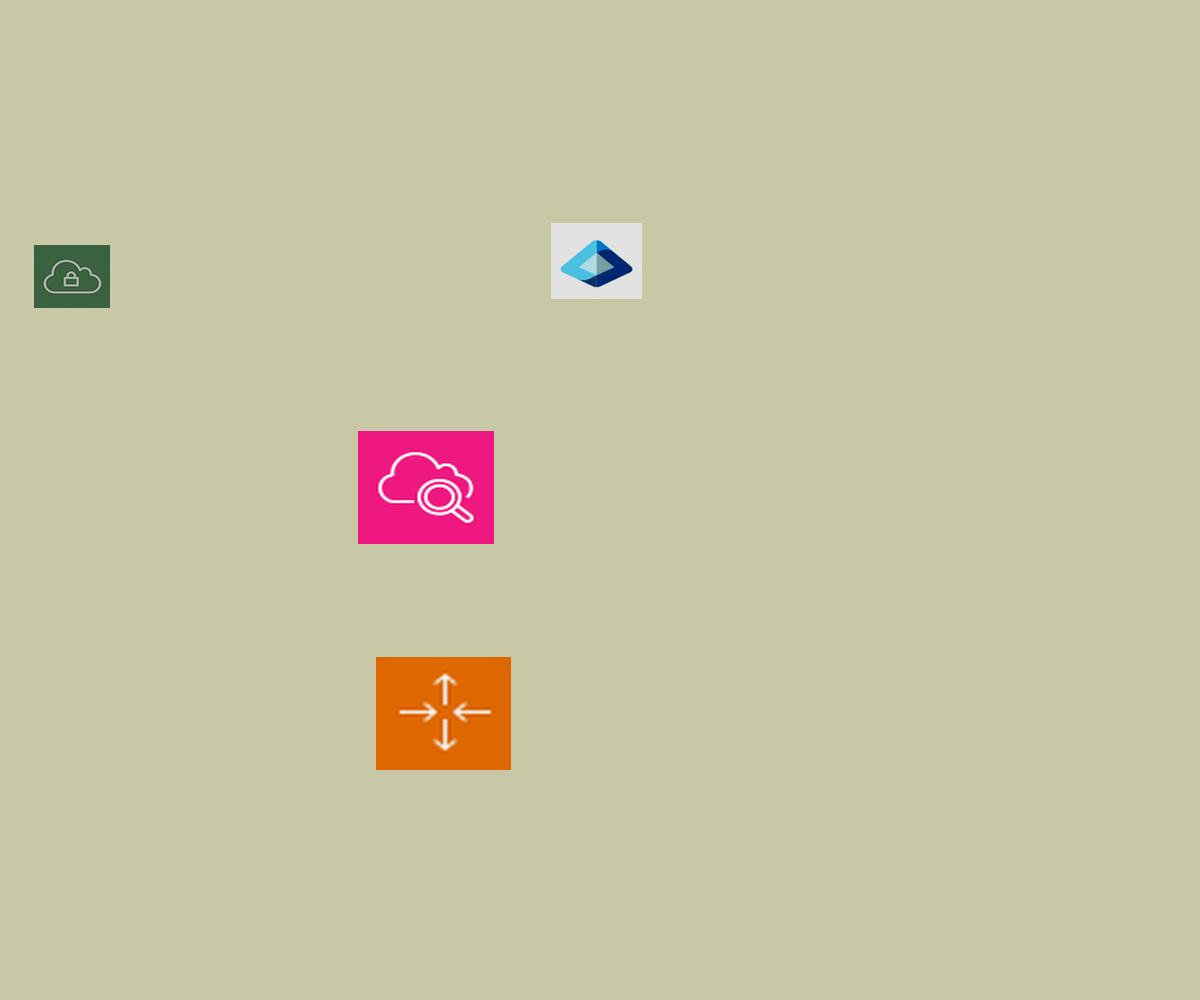AWS-CloudWatch: (358, 431, 494, 544)
AWS-Private_vpc: (34, 245, 110, 308)
AWS-Scaling-group: (376, 657, 511, 770)
Azure_microsoft_entra: (551, 223, 642, 299)
